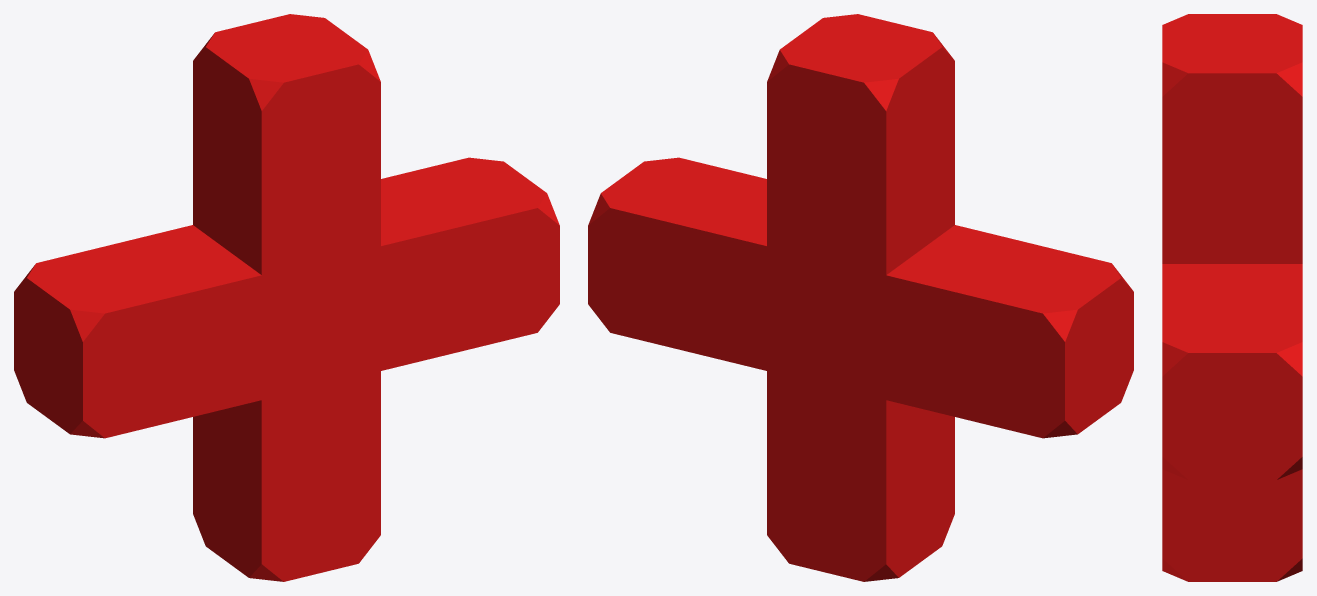
File: Heal_Up.fbx
3 renders of one model, left to right at view 1: azimuth 30°, elevation 25°; view 2: azimuth 150°, elevation 25°; view 3: azimuth 270°, elevation 25°, orthographic.
Visible parts, largest first — view 1: Heal_Plus; view 2: Heal_Plus; view 3: Heal_Plus.
Boxes of the visible parts, x1,y1,x2,y2 form: Heal_Plus: [14, 14, 559, 581]; Heal_Plus: [588, 14, 1133, 581]; Heal_Plus: [1162, 14, 1302, 581].
Bounding box in the file's own units: 400 × 400 × 100.
